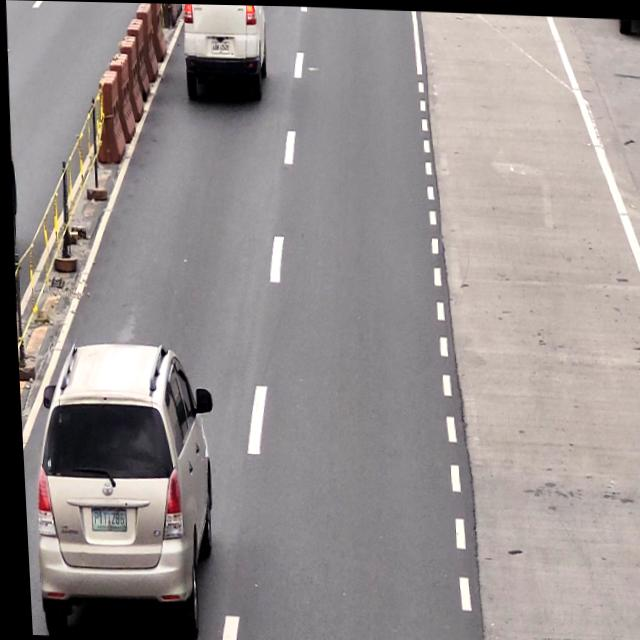Car: (19, 340, 214, 638), (182, 3, 270, 101)
License-Plate: (84, 504, 122, 540), (208, 39, 231, 53)
